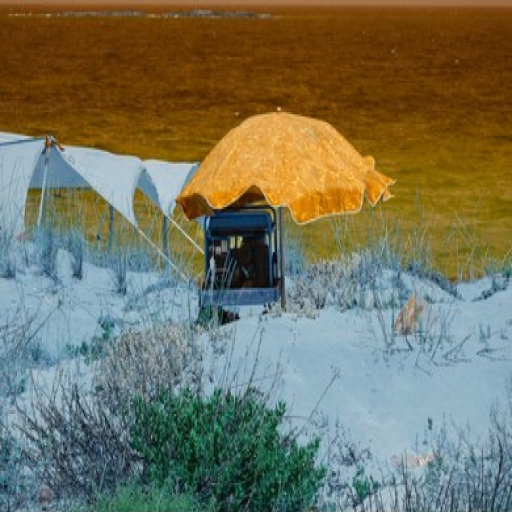portable_generator: (203, 209, 283, 305)
